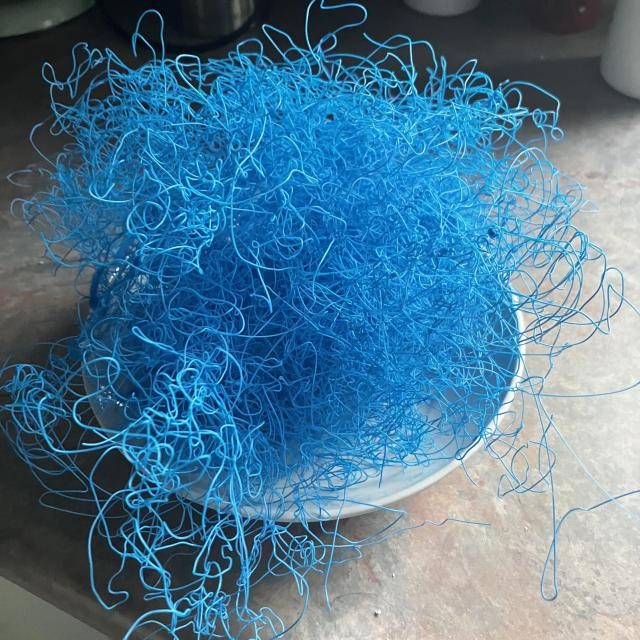spaghetti: (6, 2, 636, 633)
